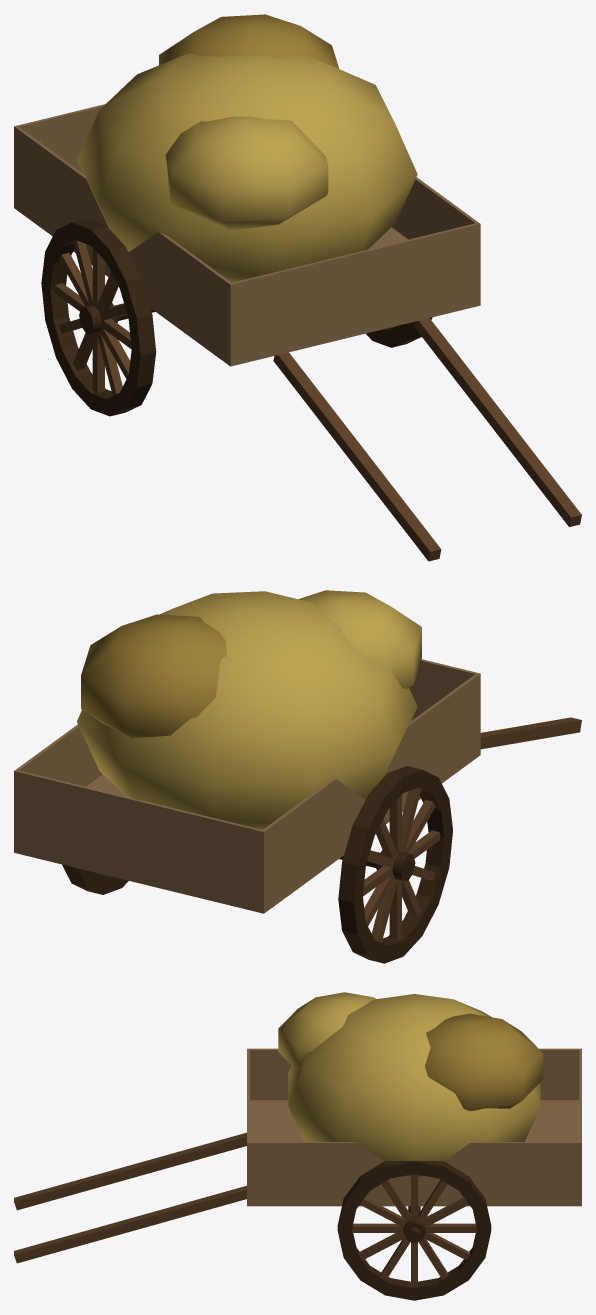
The model's file is mv_hay_cart.glb.
3 views of the same model, one above another, from view 1: azimuth 30°, elevation 25°; view 2: azimuth 150°, elevation 25°; view 3: azimuth 270°, elevation 25° (orthographic). The views are drawn at different scales.
Visible parts, largest first — view 1: mv_hay_cart; view 2: mv_hay_cart; view 3: mv_hay_cart.
Part boxes in pixels (x1,y1,x2,y2): mv_hay_cart: [14, 14, 581, 561]; mv_hay_cart: [14, 590, 581, 963]; mv_hay_cart: [14, 992, 581, 1300].
Bounding box in the file's own units: 2.03 × 1.88 × 4.07.
